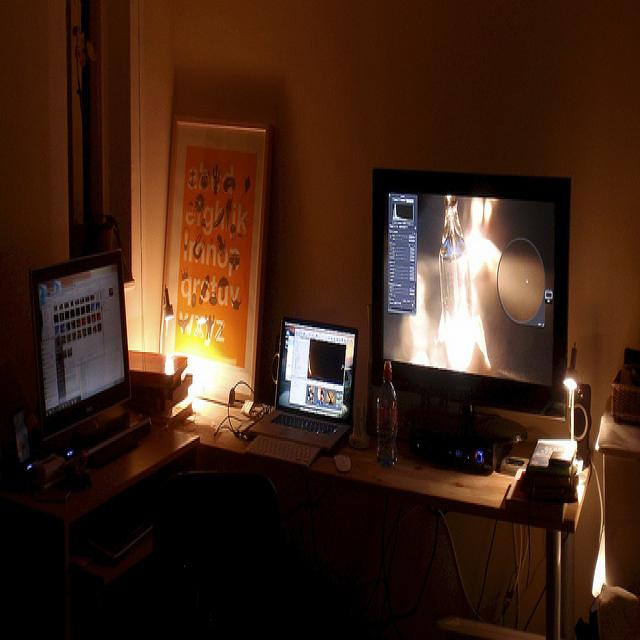Bottle: (368, 356, 406, 468)
Table: (29, 367, 589, 640)
